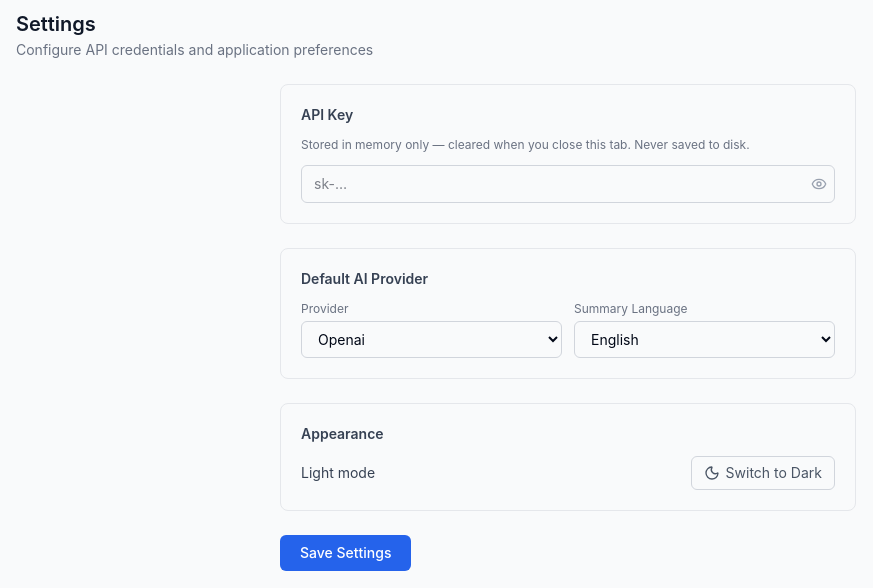
Test case: SettingsPage › shows Saved! confirmation after saving
Click the button "Save Settings".
click(346, 553)  # box [280,535,411,571]
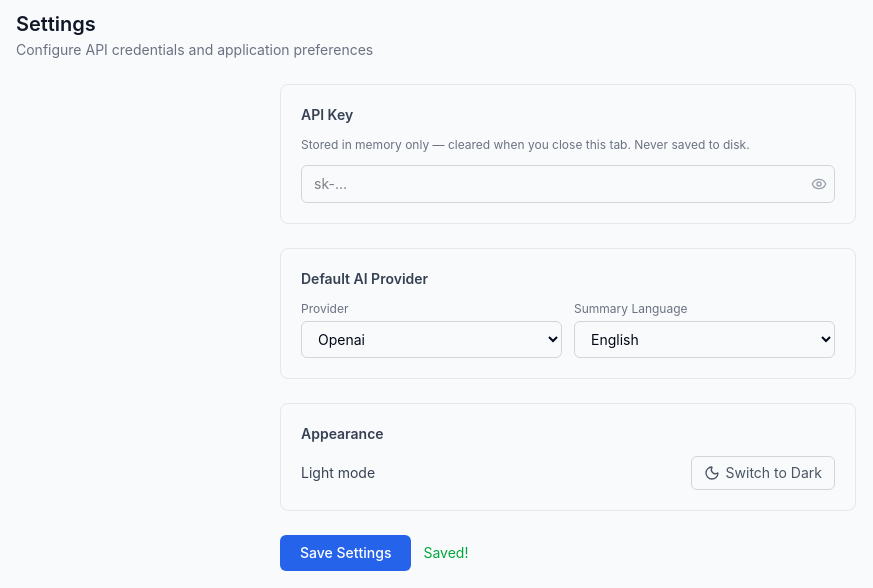
Check: the text "Saved!" is shown, box [423,543,468,563]
